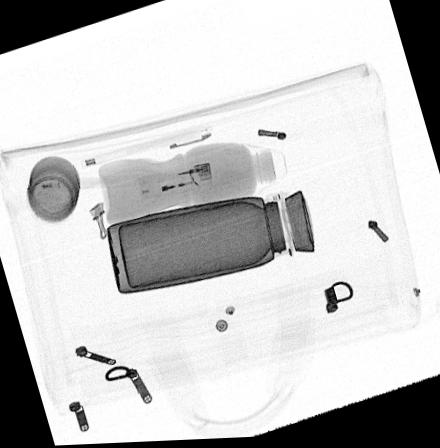Lighter: (138, 163, 213, 202)
